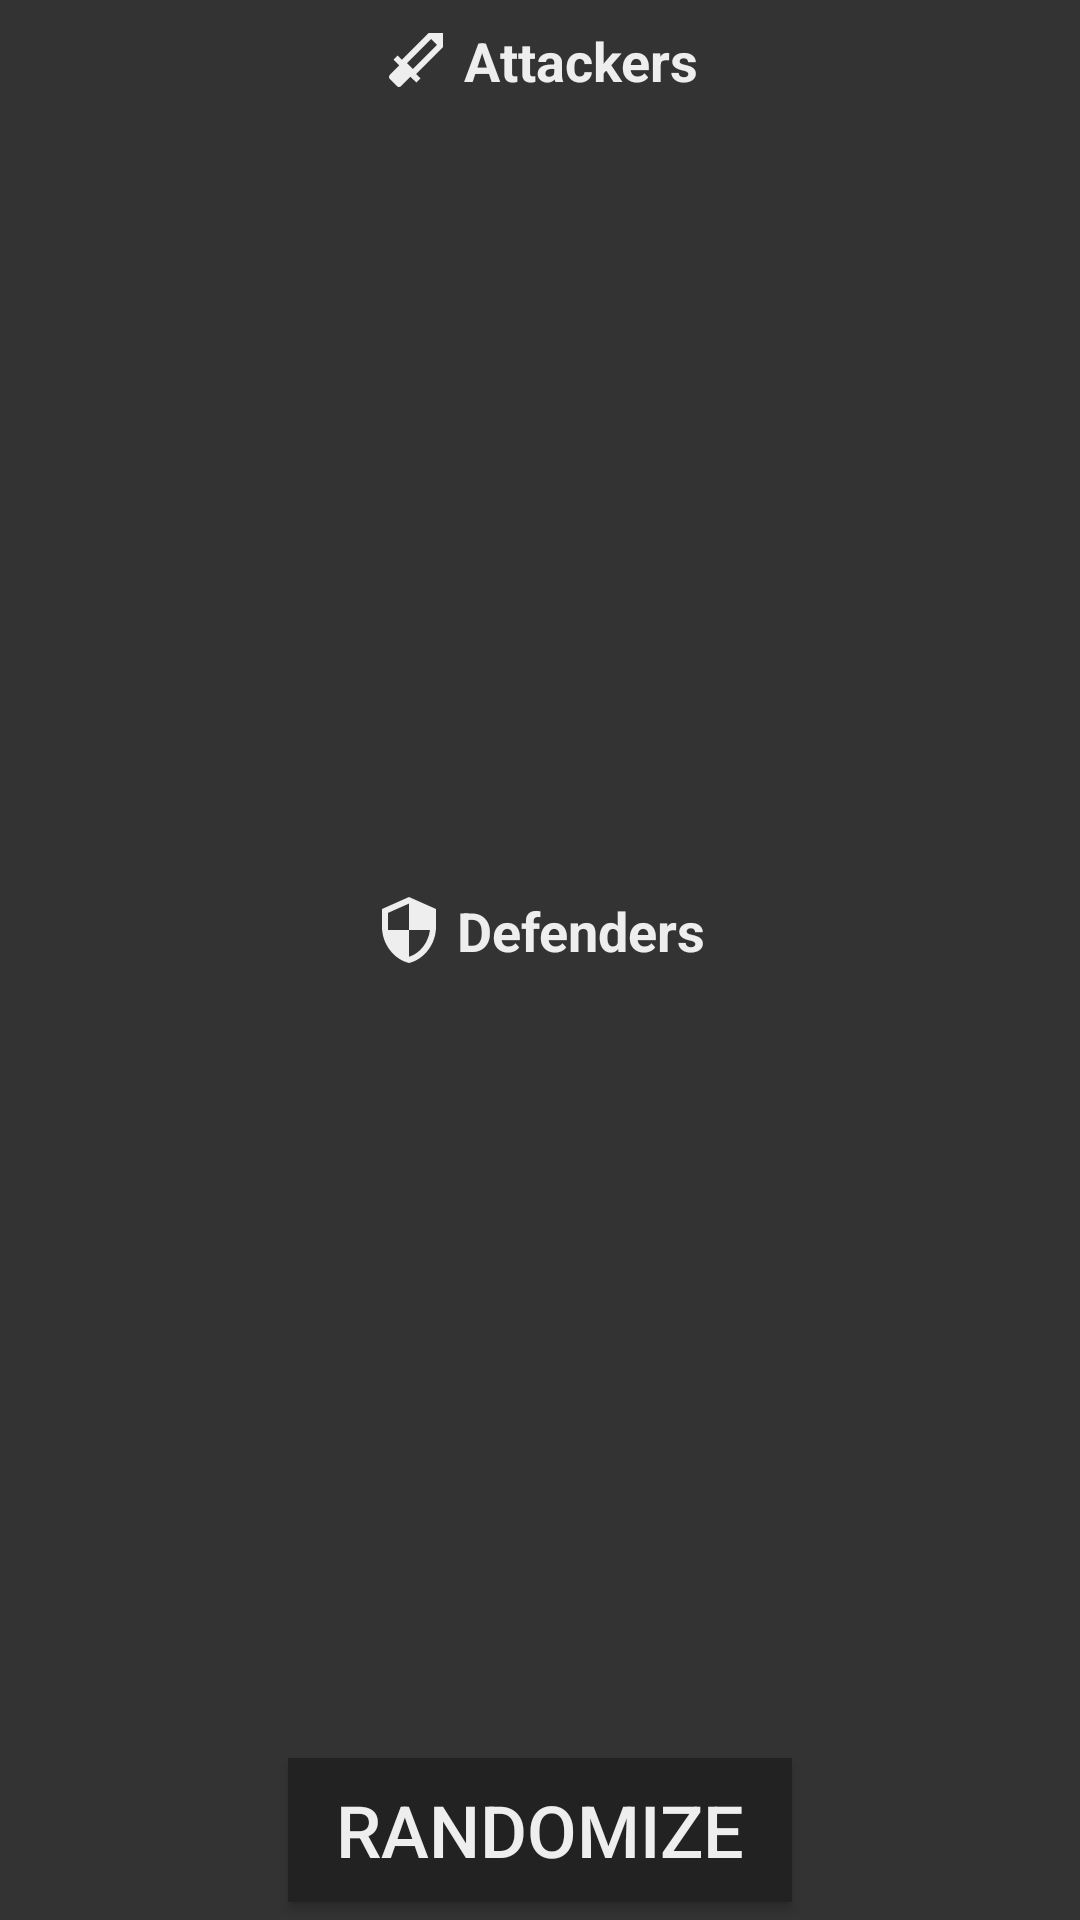

Locate icon controls on the screen. Image size 1080×1920, boxes as {"left": x1, "top": y1, "right": x2, "bottom": y2}.
shield: {"left": 382, "top": 897, "right": 436, "bottom": 963}
sword: {"left": 389, "top": 33, "right": 443, "bottom": 87}
